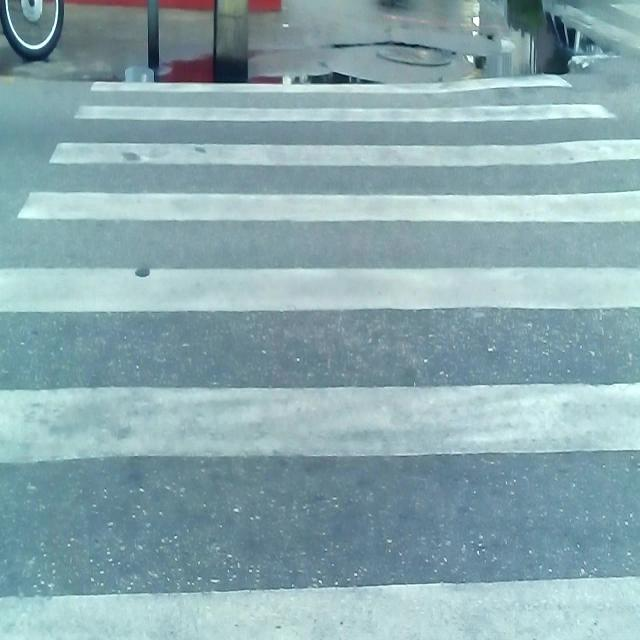crosswalk: (0, 72, 640, 640)
